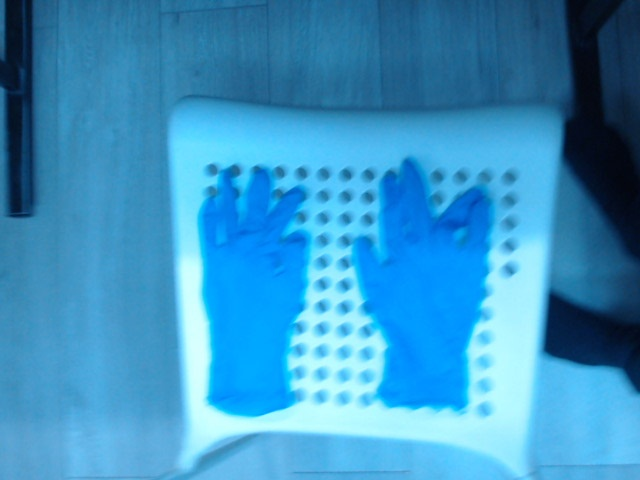medical_glove: (358, 156, 490, 416), (198, 165, 306, 413)
